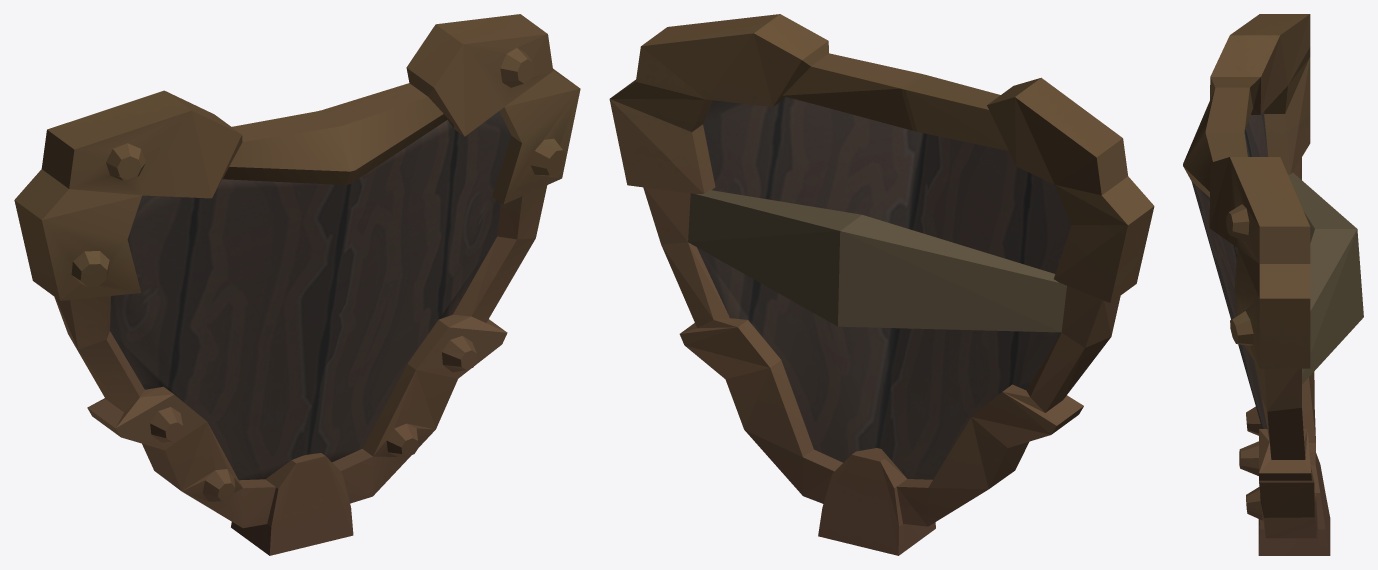
Rendered from zShield.fbx.
3 renders of one model, left to right at view 1: azimuth 30°, elevation 25°; view 2: azimuth 150°, elevation 25°; view 3: azimuth 270°, elevation 25°, orthographic. The views are drawn at different scales.
Parts seen in each view (by area): view 1: Shield; view 2: Shield; view 3: Shield.
Boxes of the visible parts, x1=… form: Shield: x1=14, y1=14, x2=580, y2=555; Shield: x1=609, y1=14, x2=1154, y2=555; Shield: x1=1183, y1=14, x2=1363, y2=555.
Size of the model in its own units: 2.72 by 2.32 by 0.861.
